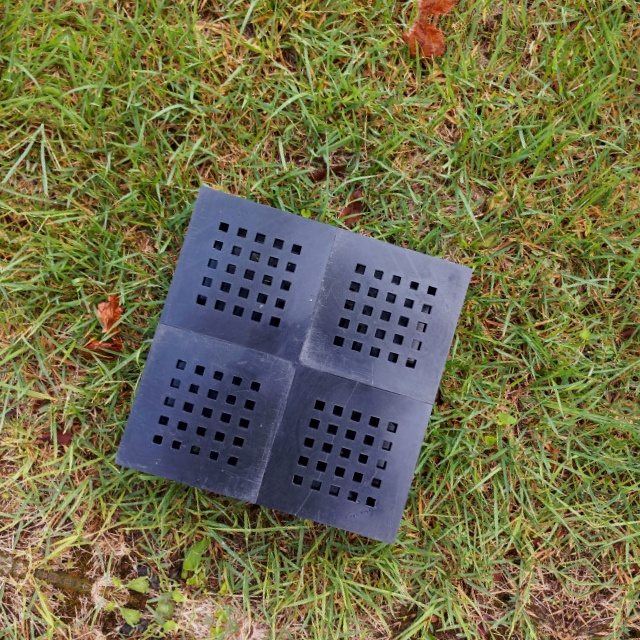pallet: (105, 166, 500, 553)
